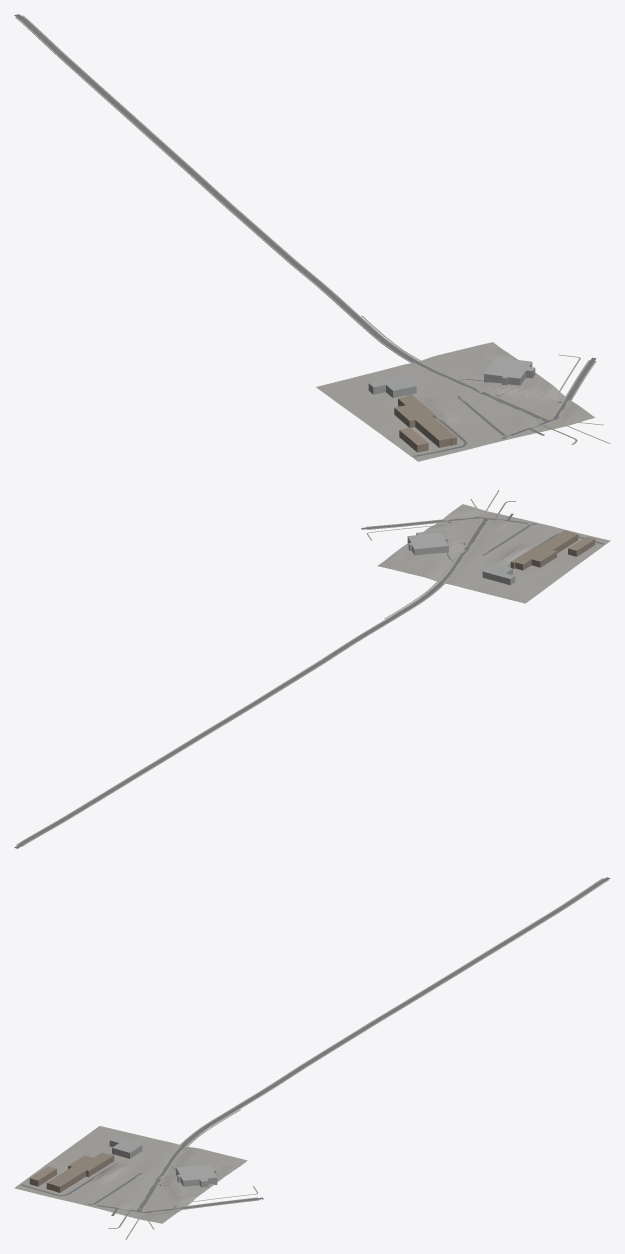
Rendered from tile_2_5.glb.
3 views of the same model, one above another, from view 1: azimuth 30°, elevation 25°; view 2: azimuth 150°, elevation 25°; view 3: azimuth 330°, elevation 25° (orthographic). The views are drawn at different scales.
Parts seen in each view (by area): view 1: terrain, buildings, roads, sidewalks, paths; view 2: terrain, buildings, roads, sidewalks, paths; view 3: terrain, buildings, roads, sidewalks, paths.
Part boxes in pixels (box(x1,y1,x2,y2)): terrain: box(316, 342, 595, 461); buildings: box(368, 357, 535, 452); roads: box(14, 14, 596, 456); sidewalks: box(15, 15, 596, 420); paths: box(361, 315, 610, 444); terrain: box(377, 504, 610, 603); buildings: box(407, 530, 595, 585); roads: box(14, 513, 603, 848); sidewalks: box(16, 516, 488, 846); paths: box(367, 490, 516, 618); terrain: box(14, 1126, 247, 1223); buildings: box(29, 1137, 217, 1192); roads: box(21, 877, 610, 1215); sidewalks: box(136, 878, 608, 1213); paths: box(108, 1109, 257, 1239).
Bounding box in the file's own units: 345 × 14.91 × 1465.
